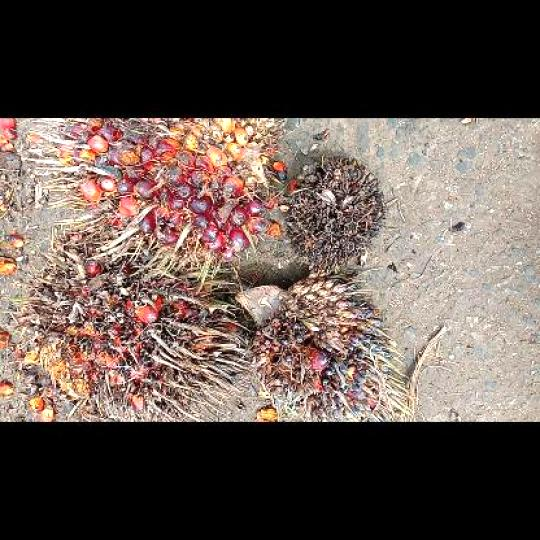masak: (49, 119, 278, 265)
terlalu masak: (25, 231, 250, 415)
